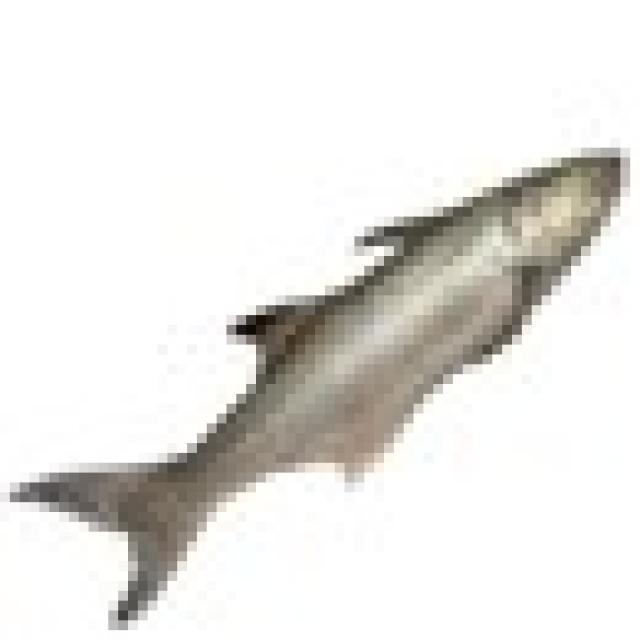Fourfinger-Threadfin: (16, 95, 640, 637)
